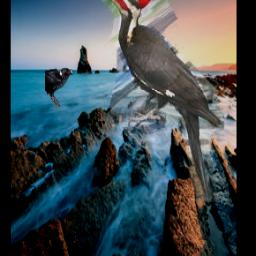Crow: (44, 67, 73, 108)
Woodpecker: (92, 0, 224, 202)
